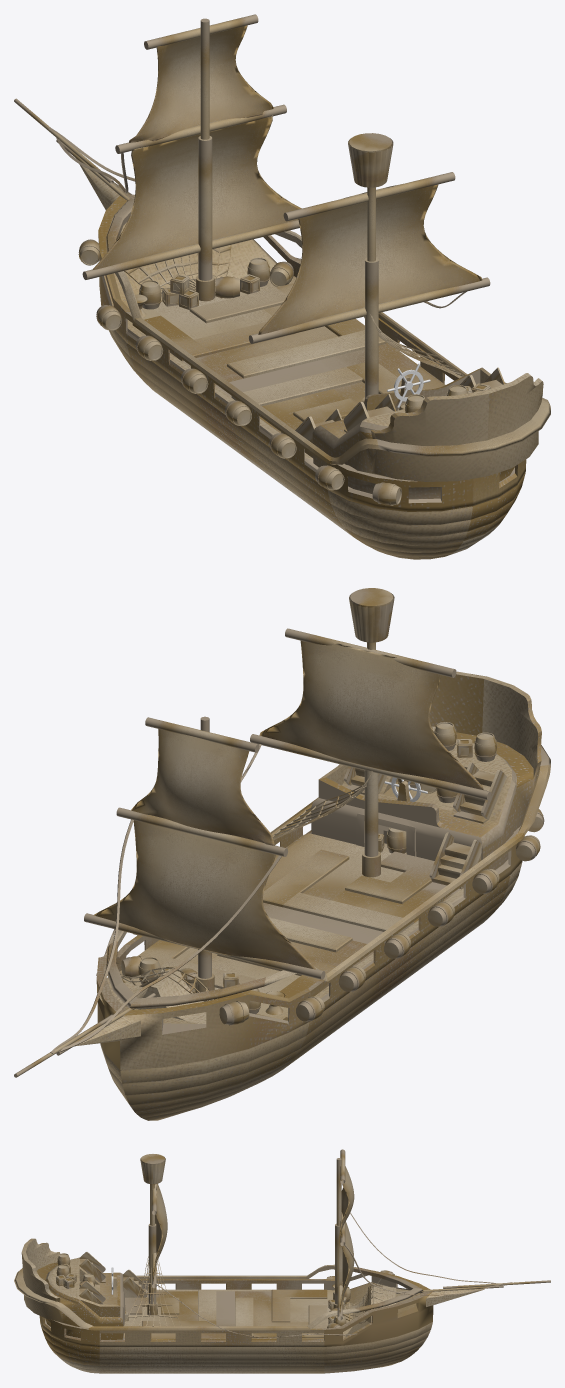
Rendered from ship4FBX.fbx.
3 renders of one model, top to bottom at view 1: azimuth 30°, elevation 25°; view 2: azimuth 150°, elevation 25°; view 3: azimuth 270°, elevation 25°, orthographic. The views are drawn at different scales.
Parts seen in each view (by area): view 1: polySurface1, polySurface9, pPlane9, pPlane8, pPlane10, polySurface7, pCylinder2, pCylinder27, pCylinder20, pCylinder28, pCylinder21, pCylinder26 (+6 smaller); view 2: polySurface1, polySurface9, pPlane9, pPlane8, pPlane10, polySurface7, pCylinder20, pCylinder27, pCylinder21, pCylinder23, pCylinder28, pCylinder26 (+9 smaller); view 3: polySurface1, polySurface9, polySurface7, pPlane6, pPlane9, pCylinder20, pCylinder21, pPlane8, pCylinder2, pPlane10, pCube33, pCube42 (+6 smaller).
Boxes of the visible parts, bbox=[...] form: polySurface1: bbox=[76, 158, 543, 559]; polySurface9: bbox=[127, 276, 443, 433]; pPlane9: bbox=[258, 183, 482, 334]; pPlane8: bbox=[92, 116, 301, 269]; pPlane10: bbox=[129, 20, 273, 142]; polySurface7: bbox=[105, 198, 550, 464]; pCylinder2: bbox=[196, 136, 214, 301]; pCylinder27: bbox=[249, 277, 490, 343]; pCylinder20: bbox=[348, 133, 393, 187]; pCylinder28: bbox=[82, 220, 299, 279]; pCylinder21: bbox=[362, 257, 378, 403]; pCylinder26: bbox=[283, 172, 455, 221]; polySurface1: bbox=[75, 671, 541, 1120]; polySurface9: bbox=[119, 833, 460, 1019]; pPlane9: bbox=[259, 641, 483, 789]; pPlane8: bbox=[94, 820, 315, 969]; pPlane10: bbox=[131, 729, 274, 845]; polySurface7: bbox=[105, 745, 550, 1008]; pCylinder20: bbox=[349, 588, 394, 642]; pCylinder27: bbox=[250, 734, 491, 800]; pCylinder21: bbox=[362, 770, 380, 877]; pCylinder23: bbox=[116, 807, 287, 856]; pCylinder28: bbox=[84, 913, 325, 979]; pCylinder26: bbox=[285, 628, 456, 677]; polySurface1: bbox=[21, 1238, 484, 1373]; polySurface9: bbox=[124, 1289, 345, 1337]; polySurface7: bbox=[14, 1264, 423, 1330]; pPlane6: bbox=[124, 1256, 181, 1326]; pPlane9: bbox=[153, 1184, 167, 1281]; pCylinder20: bbox=[140, 1154, 165, 1184]; pCylinder21: bbox=[147, 1223, 157, 1316]; pPlane8: bbox=[339, 1221, 354, 1313]; pCylinder2: bbox=[333, 1223, 344, 1314]; pPlane10: bbox=[340, 1166, 354, 1238]; pCube33: bbox=[123, 1269, 147, 1297]; pCube42: bbox=[79, 1252, 105, 1282].
Size of the model in its own units: 272 by 384 by 897.
